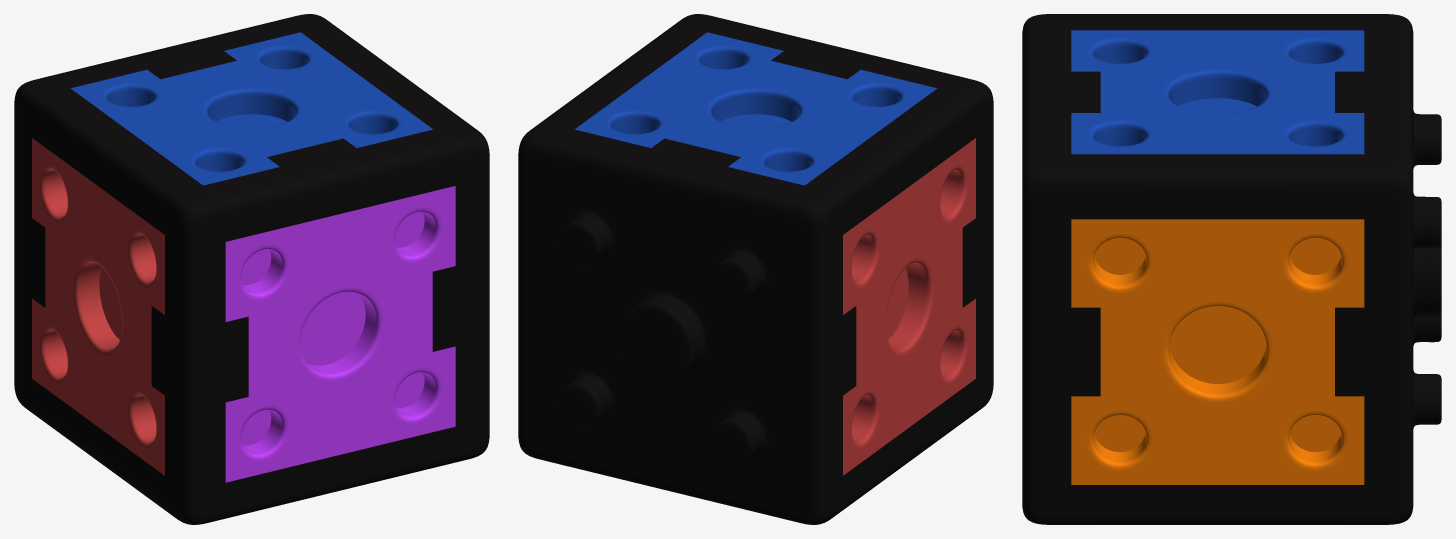
The picture shows the model from 3 angles, left to right: view 1: azimuth 30°, elevation 25°; view 2: azimuth 150°, elevation 25°; view 3: azimuth 270°, elevation 25°; orthographic projection. The views are drawn at different scales.
Size of the model in its own units: 0.04 by 0.04 by 0.0429.
